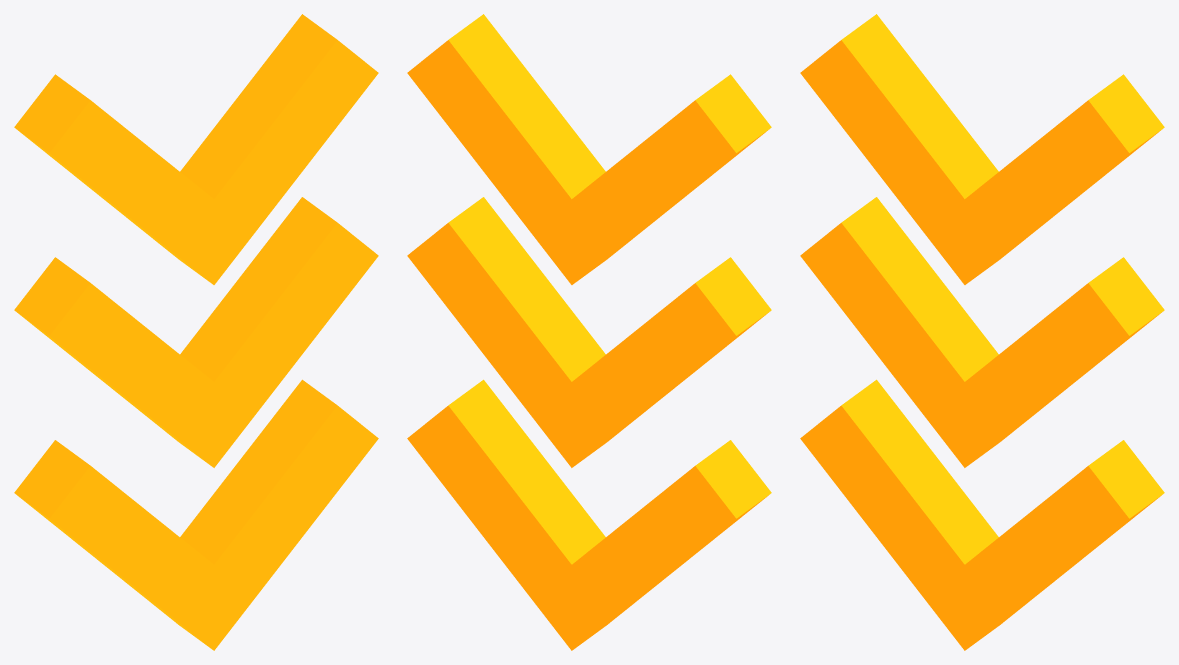
The model's file is AnimatedIndicatorArrowOrange.glb.
The picture shows the model from 3 angles, left to right: view 1: azimuth 30°, elevation 25°; view 2: azimuth 150°, elevation 25°; view 3: azimuth 330°, elevation 25°; orthographic projection.
Parts seen in each view (by area): view 1: Plane; view 2: Plane; view 3: Plane.
Boxes of the visible parts, x1,y1,x2,y2 form: Plane: (14,14,378,650); Plane: (407,14,771,650); Plane: (800,14,1164,650).
Size of the model in its own units: 0.3394 by 0.5721 by 0.0632.
